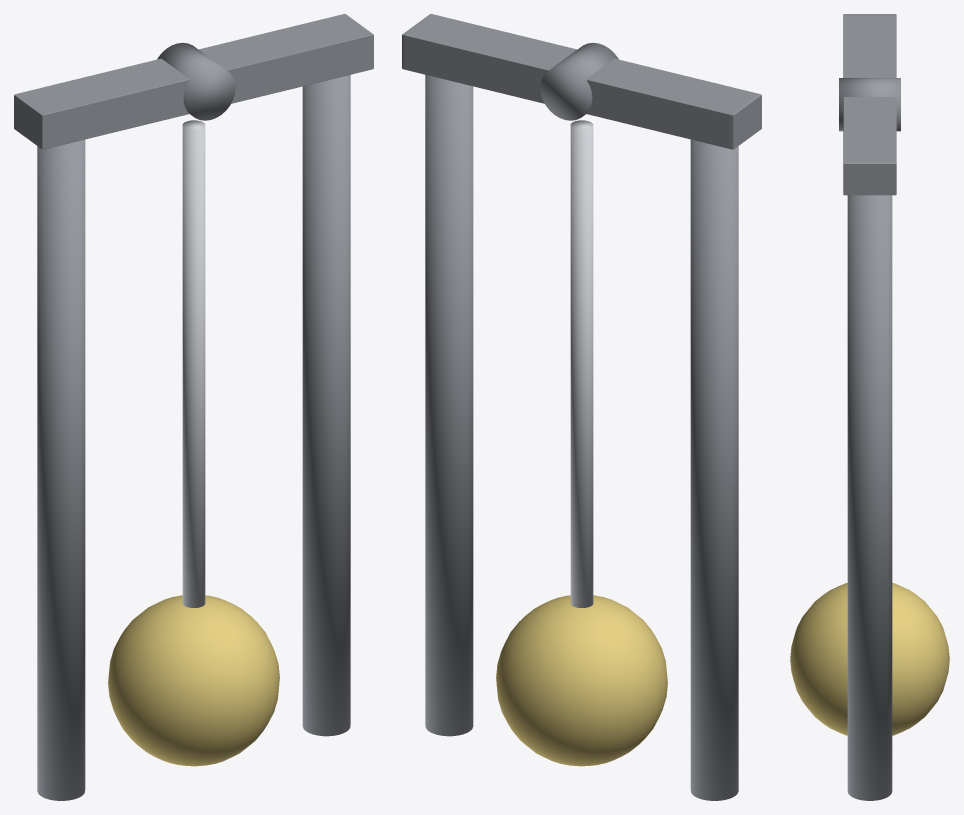
File: pendulum.glb
The picture shows the model from 3 angles, left to right: view 1: azimuth 30°, elevation 25°; view 2: azimuth 150°, elevation 25°; view 3: azimuth 270°, elevation 25°; orthographic projection. The views are drawn at different scales.
Visible parts, largest first — view 1: Cube; view 2: Cube; view 3: Cube.
Boxes of the visible parts, box(x1,y1,x2,y2) form: Cube: box(14, 14, 373, 800); Cube: box(402, 14, 761, 800); Cube: box(790, 14, 949, 800).
Size of the model in its own units: 0.1481 by 0.3 by 0.0667.
